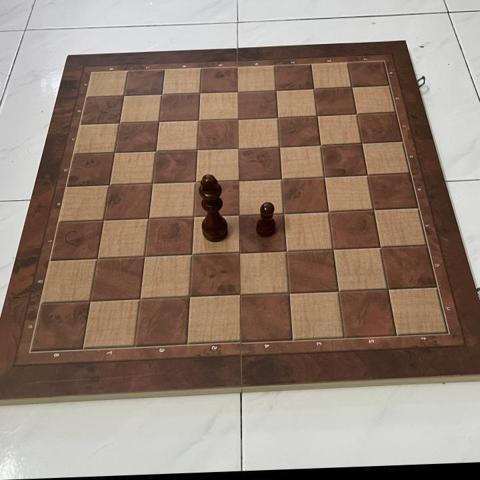xcorner: (230, 81, 248, 99), (190, 110, 208, 128), (349, 104, 367, 122), (147, 141, 165, 159), (230, 138, 248, 156), (187, 172, 205, 190), (230, 170, 248, 188), (185, 207, 203, 225), (131, 290, 149, 308), (280, 284, 298, 302), (379, 280, 397, 298), (115, 86, 133, 103), (154, 84, 171, 102), (268, 80, 286, 97), (307, 78, 324, 96), (111, 113, 128, 131), (230, 109, 248, 126), (270, 107, 287, 125), (313, 135, 330, 153), (354, 134, 372, 151), (101, 175, 118, 193), (273, 169, 291, 186), (317, 167, 334, 185), (360, 165, 377, 183), (140, 209, 158, 226), (230, 206, 248, 223), (366, 200, 383, 218), (183, 246, 201, 263), (278, 242, 295, 260), (325, 240, 342, 258), (372, 238, 389, 256), (181, 288, 198, 306), (231, 286, 248, 304), (330, 282, 347, 300), (192, 83, 209, 100), (345, 77, 362, 94), (151, 112, 168, 129), (310, 106, 327, 123), (106, 143, 123, 160), (189, 140, 206, 157), (272, 137, 289, 154), (144, 174, 161, 191), (95, 211, 112, 228), (276, 204, 293, 221), (321, 202, 338, 219), (89, 250, 106, 267), (136, 248, 153, 265), (231, 244, 248, 261), (82, 292, 99, 309)
